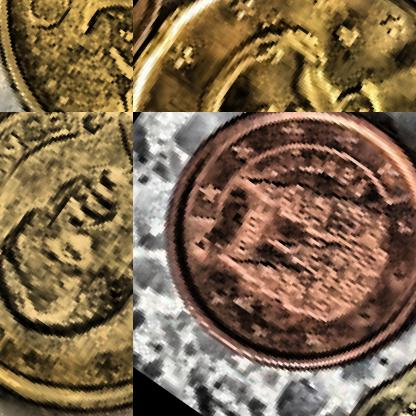coin: (133, 112, 415, 415), (0, 112, 132, 415), (133, 0, 415, 111), (0, 0, 132, 111)
